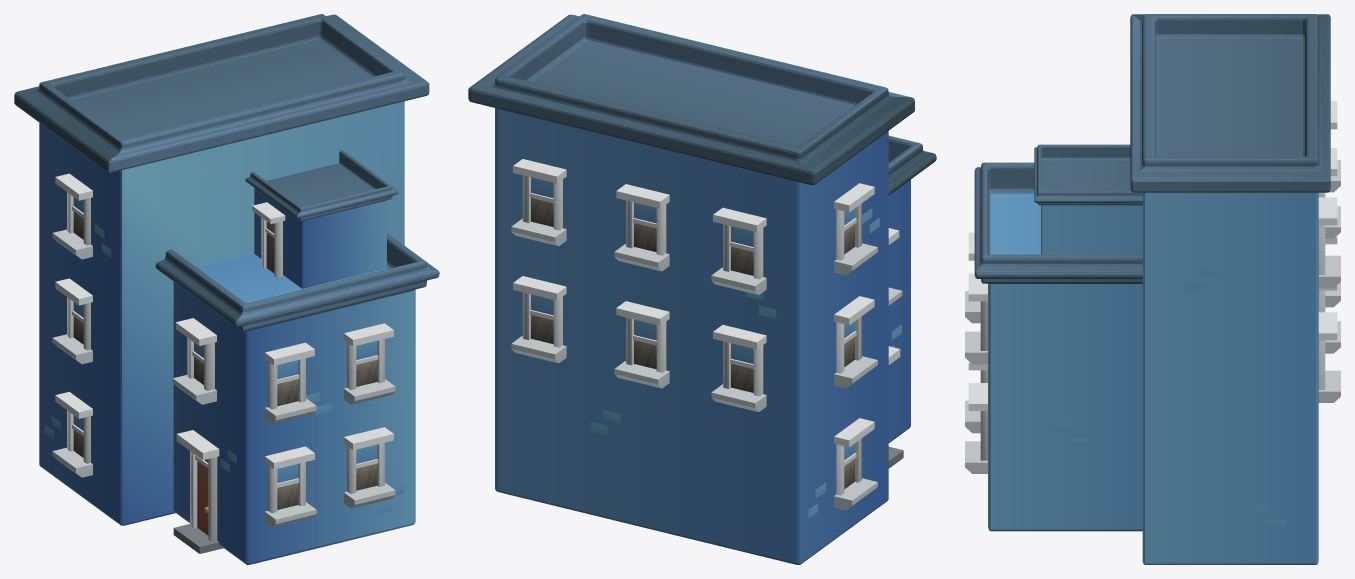
File: EDIFICIO AZUL NUEVO.fbx
The picture shows the model from 3 angles, left to right: view 1: azimuth 30°, elevation 25°; view 2: azimuth 150°, elevation 25°; view 3: azimuth 270°, elevation 25°; orthographic projection. The views are drawn at different scales.
Visible parts, largest first — view 1: building_F_withoutBase.013; view 2: building_F_withoutBase.013; view 3: building_F_withoutBase.013.
Boxes of the visible parts, x1=… form: building_F_withoutBase.013: x1=14, y1=14, x2=439, y2=564; building_F_withoutBase.013: x1=468, y1=14, x2=936, y2=564; building_F_withoutBase.013: x1=965, y1=14, x2=1340, y2=564.
Size of the model in its own units: 1787 by 2042 by 1706.
3 materials, 3 textured.
